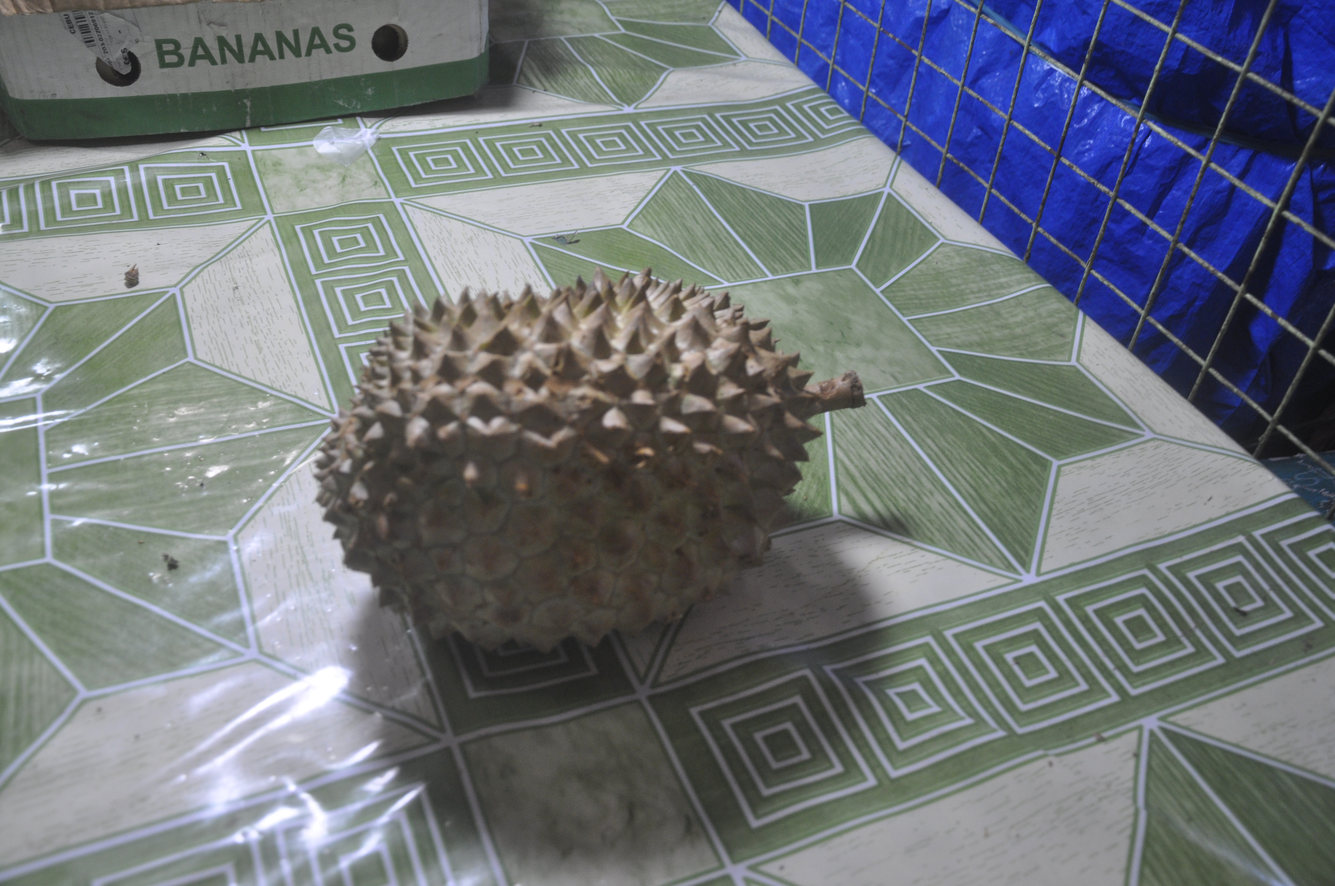mature: (317, 270, 863, 651)
